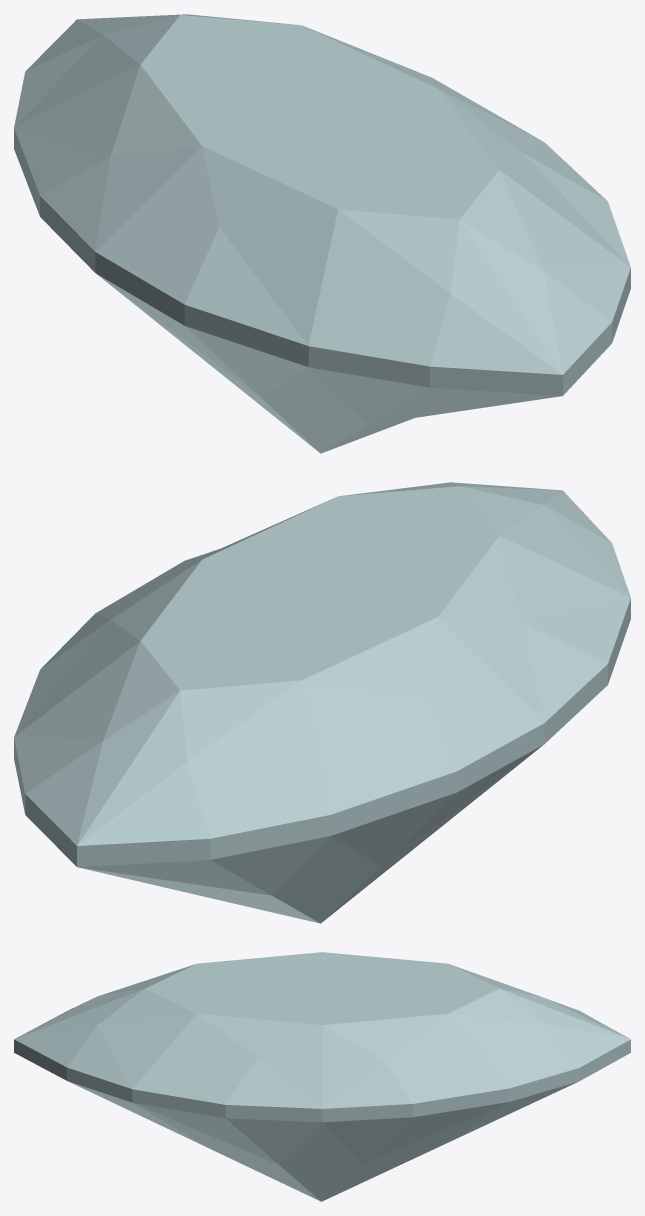
File: stone_marquise_cut.fbx
3 renders of one model, top to bottom at view 1: azimuth 30°, elevation 25°; view 2: azimuth 150°, elevation 25°; view 3: azimuth 270°, elevation 25°, orthographic. The views are drawn at different scales.
Parts seen in each view (by area): view 1: stone_marquise_cut; view 2: stone_marquise_cut; view 3: stone_marquise_cut.
Boxes of the visible parts, x1,y1,x2,y2 form: stone_marquise_cut: (14, 14, 630, 453); stone_marquise_cut: (14, 482, 630, 923); stone_marquise_cut: (14, 952, 630, 1201).
Size of the model in its own units: 1.22 by 0.8747 by 2.29.
